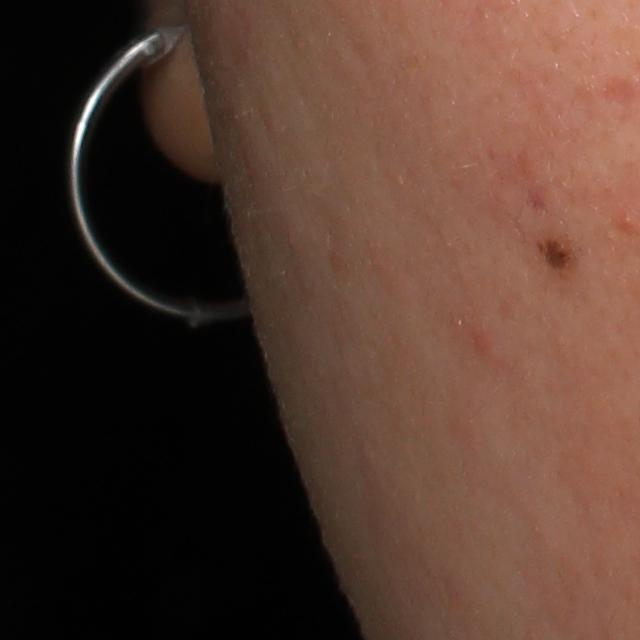atrophic_scar: (596, 74, 640, 107)
nevus: (533, 235, 578, 270)
